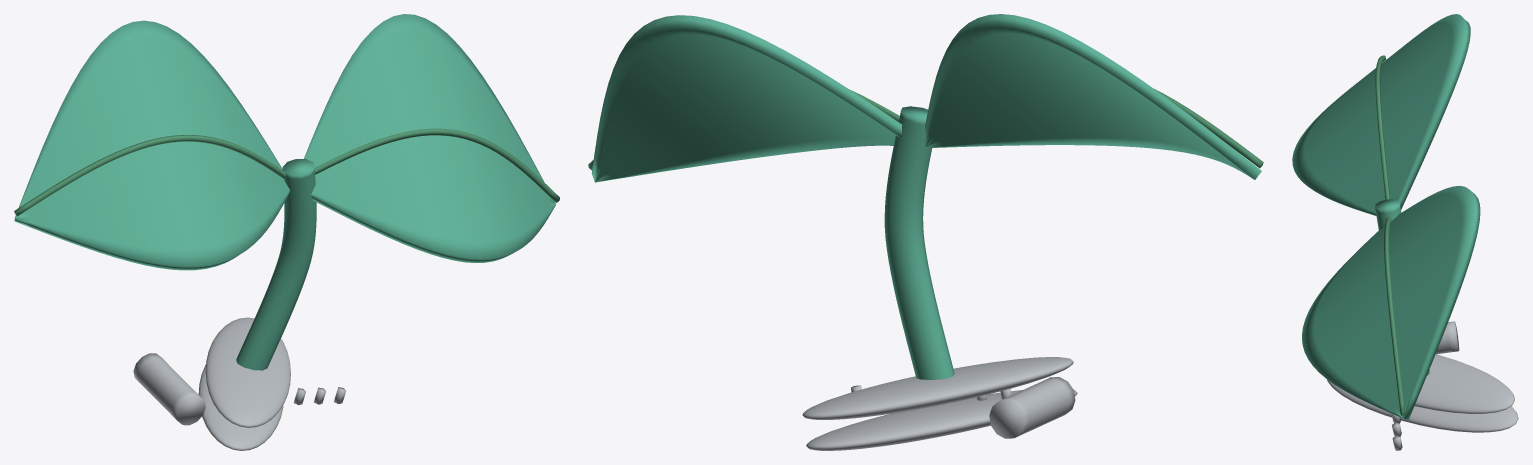
File: Feminine-side-sweep--ears-sprout.glb
The picture shows the model from 3 angles, left to right: view 1: azimuth 30°, elevation 25°; view 2: azimuth 150°, elevation 25°; view 3: azimuth 270°, elevation 25°; orthographic projection. The views are drawn at different scales.
Visible parts, largest first — view 1: 226 extra / Accessory / mint226, 226 extra / Sprout / clip silver235, 226 extra / Sprout / leaf vein235; view 2: 226 extra / Accessory / mint226, 226 extra / Sprout / clip silver235, 226 extra / Sprout / leaf vein235; view 3: 226 extra / Accessory / mint226, 226 extra / Sprout / clip silver235, 226 extra / Sprout / leaf vein235.
Part boxes in pixels (box(x1,y1,x2,y2)): 226 extra / Accessory / mint226: box(14, 14, 555, 370); 226 extra / Sprout / clip silver235: box(133, 317, 345, 450); 226 extra / Sprout / leaf vein235: box(14, 128, 559, 216); 226 extra / Accessory / mint226: box(591, 14, 1261, 379); 226 extra / Sprout / clip silver235: box(802, 357, 1077, 450); 226 extra / Sprout / leaf vein235: box(588, 89, 1263, 170); 226 extra / Accessory / mint226: box(1292, 14, 1480, 419); 226 extra / Sprout / clip silver235: box(1327, 321, 1518, 450); 226 extra / Sprout / leaf vein235: box(1375, 55, 1405, 415).
Size of the model in its own units: 0.265 by 0.1801 by 0.1043.
